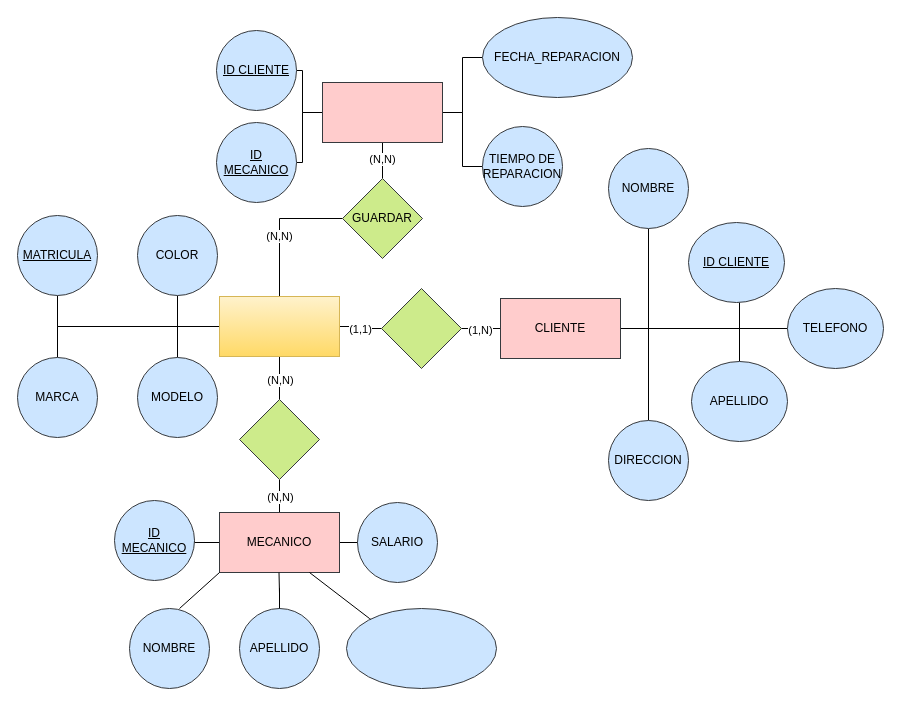
This 901x706 diagram has some shape labels left out. The centre of each missing label's shape, as x and y in pixels:
"AUTOMOVIL" belongs at point 279,326.
"COMPRAR" belongs at point 421,328.
"DATOS DE REPARACION" belongs at point 382,112.
"FECHA_CONTRATACION" belongs at point 421,648.
"REPARAR" belongs at point 279,439.
